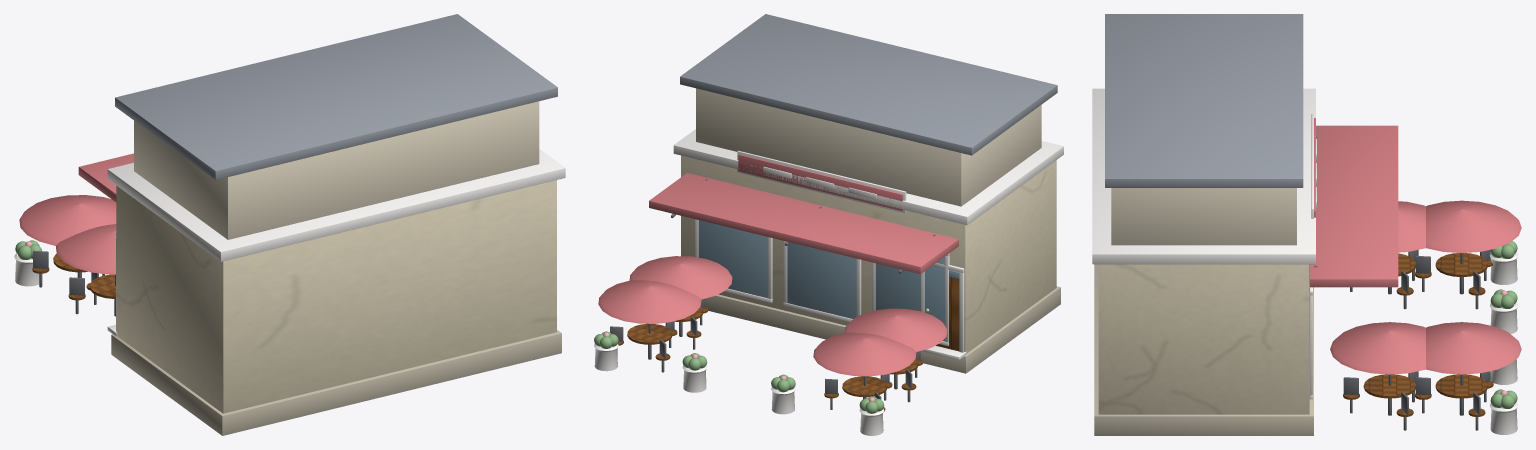
Rendered from th37_cafe.glb.
3 renders of one model, left to right at view 1: azimuth 30°, elevation 25°; view 2: azimuth 150°, elevation 25°; view 3: azimuth 270°, elevation 25°, orthographic. The views are drawn at different scales.
Visible parts, largest first — view 1: Cube.001, Cube.004, Cube.003, Cube.002, Cube, Schirm.001, Schirm, Cube.027, Kuebel, Cylinder.001; view 2: Cube.004, Cube.001, Cube.003, Cube.027, Cube.002, Cube, Cube.010, Cube.015, Schirm.001, Schirm.003, Cube.005, Schirm.002 (+11 smaller); view 3: Cube.004, Cube.001, Cube.027, Cube.003, Cube.002, Cube, Schirm.002, Schirm.003, Schirm.001, Schirm, Cylinder.019, Cylinder.028 (+5 smaller).
Boxes of the visible parts, x1,y1,x2,y2 form: Cube.001: (116,180,556,413); Cube.004: (115,14,557,179); Cube.003: (134,101,539,239); Cube.002: (107,149,565,261); Cube: (111,330,561,435); Schirm.001: (19,195,116,245); Schirm: (56,224,116,274); Cube.027: (78,153,133,202); Kuebel: (14,253,39,286); Cylinder.001: (90,274,115,298); Cube.004: (680,14,1057,155); Cube.001: (681,155,1056,353); Cube.003: (696,88,1041,206); Cube.027: (649,173,958,273); Cube.002: (673,129,1063,225); Cube: (705,286,1060,373); Cube.010: (787,242,856,318); Cube.015: (698,220,767,298); Schirm.001: (813,332,916,376); Schirm.003: (598,280,701,323); Cube.005: (875,256,944,341); Schirm.002: (629,256,732,299); Cube.004: (1105,14,1303,187); Cube.001: (1098,264,1309,414); Cube.027: (1309,125,1398,287); Cube.003: (1111,188,1296,245); Cube.002: (1092,88,1315,264); Cube: (1094,264,1313,435); Schirm.002: (1330,322,1425,374); Schirm.003: (1426,322,1521,374); Schirm.001: (1426,200,1521,252); Schirm: (1398,201,1425,252); Cylinder.019: (1363,374,1416,398); Cylinder.028: (1435,374,1487,398).
Bounding box in the file's own units: 9.64 × 6.74 × 10.17.
Materials: 13 (2 with a texture image).
